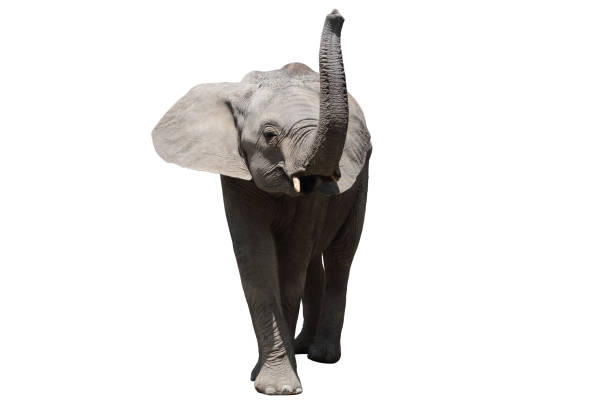africanelephant: (230, 64, 349, 205)
